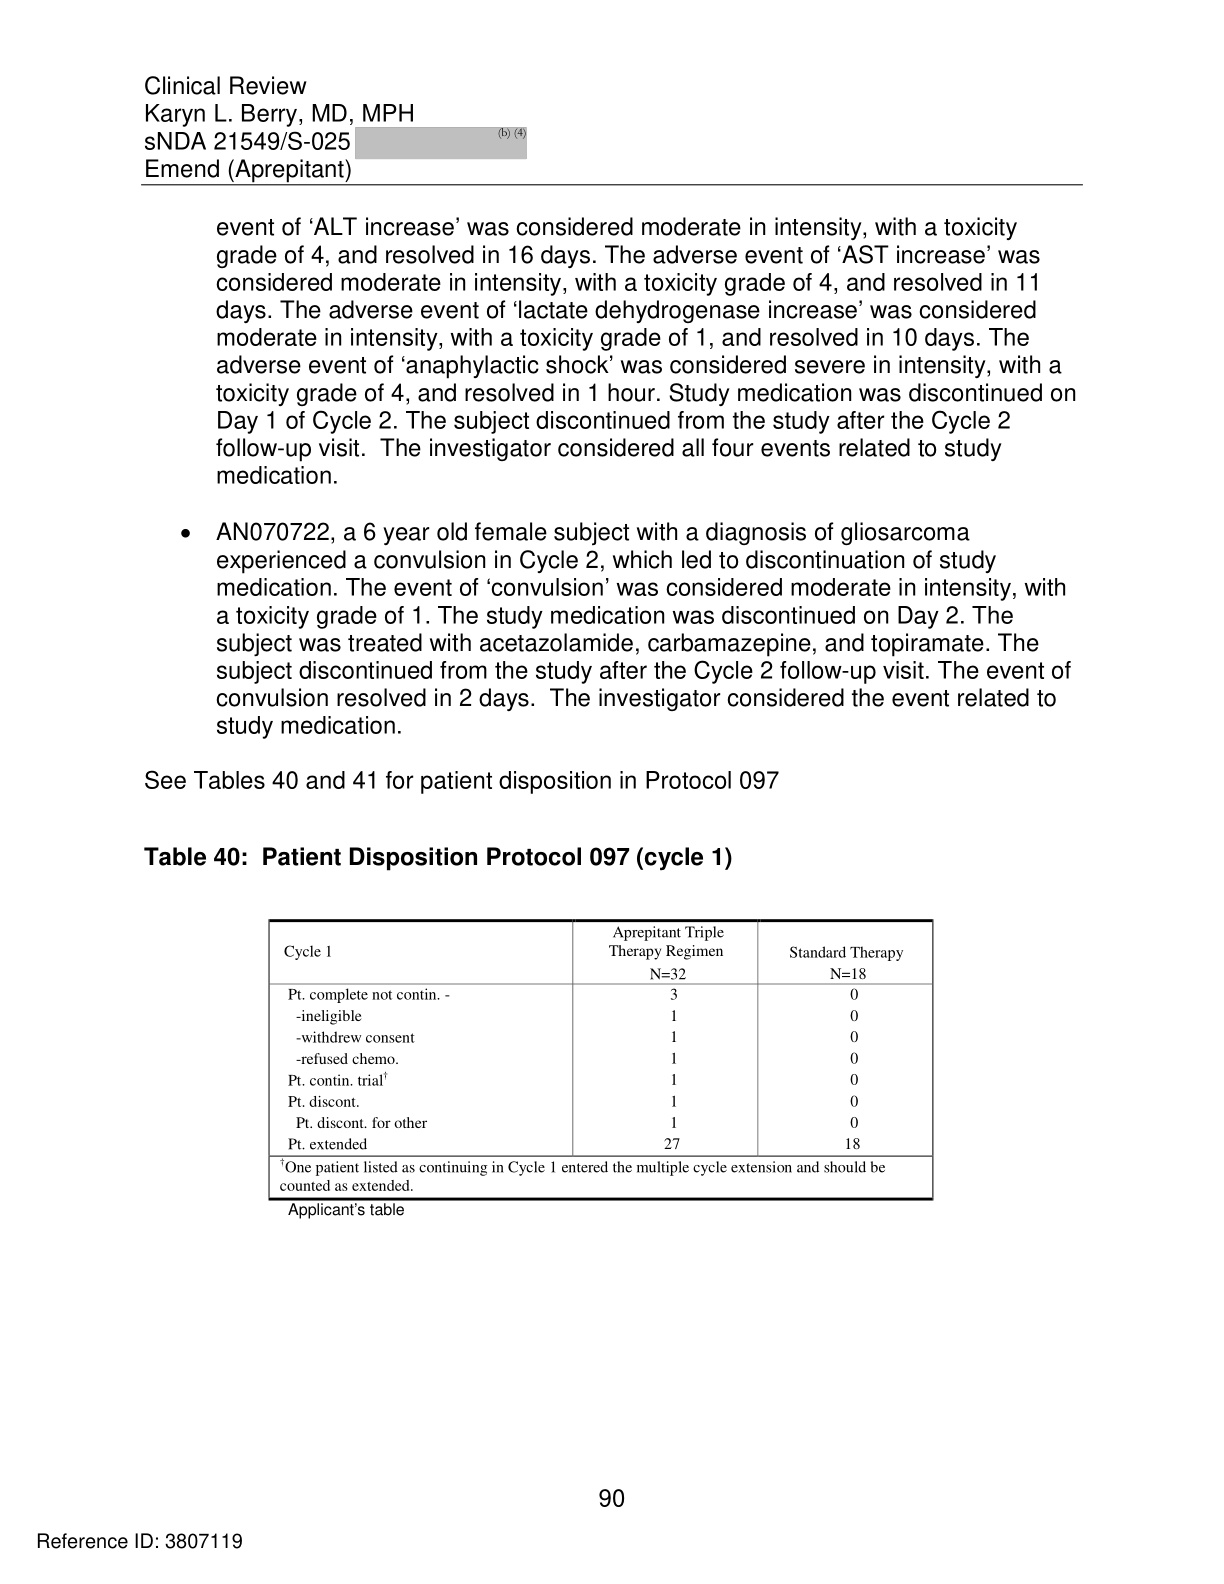partial_lined_merged_cells: (267, 918, 933, 1201)
